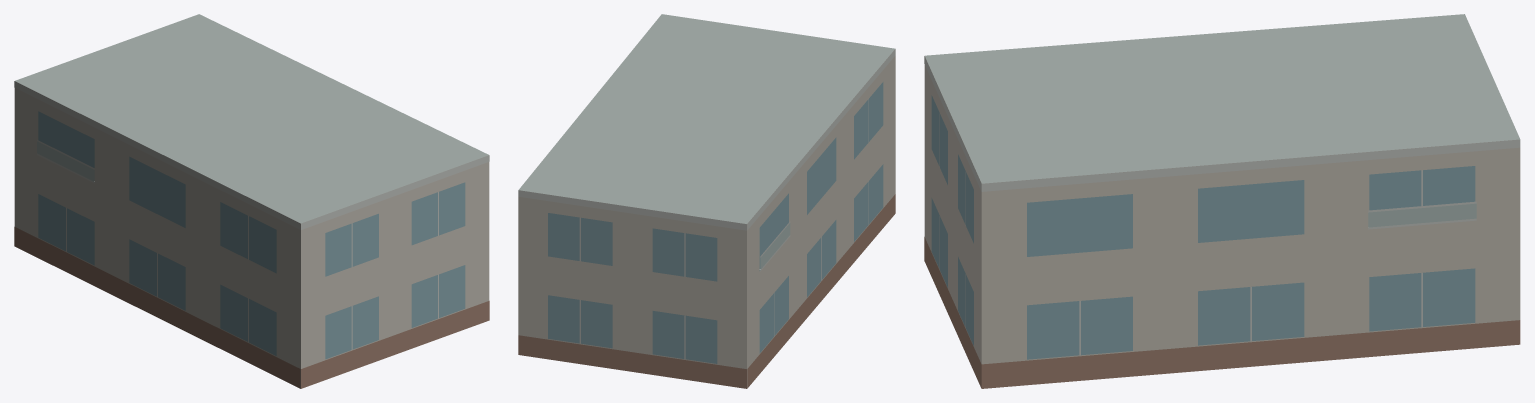
File: survey-upis-32609988.glb
3 renders of one model, left to right at view 1: azimuth 30°, elevation 25°; view 2: azimuth 150°, elevation 25°; view 3: azimuth 270°, elevation 25°, orthographic. The views are drawn at different scales.
Visible parts, largest first — view 1: survey-upis-32609988.tmp; view 2: survey-upis-32609988.tmp; view 3: survey-upis-32609988.tmp.
Boxes of the visible parts, left/top/right/bottom form: survey-upis-32609988.tmp: left=14, top=14, right=489, bottom=388; survey-upis-32609988.tmp: left=518, top=14, right=895, bottom=388; survey-upis-32609988.tmp: left=924, top=14, right=1520, bottom=388.
Bounding box in the file's own units: 10.83 × 6.1 × 16.07.
